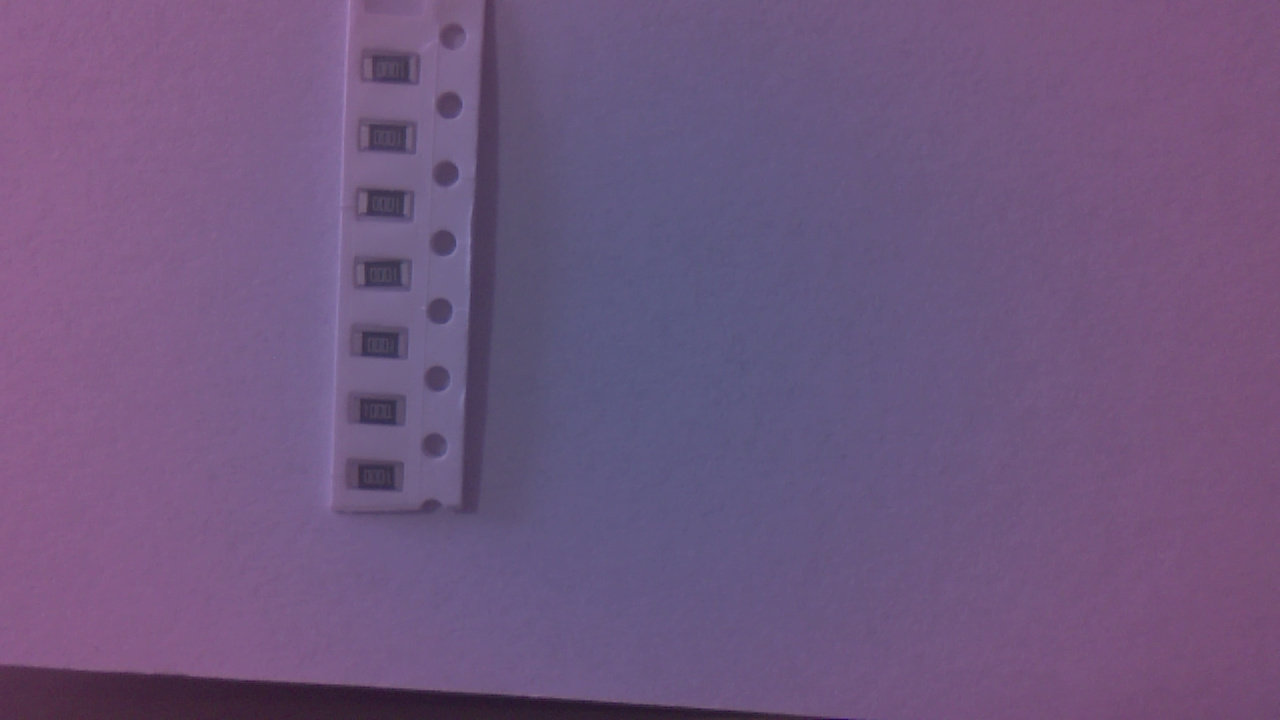Resistor: (351, 398, 415, 433), (362, 125, 423, 161), (354, 331, 414, 366), (357, 191, 420, 224), (365, 56, 427, 89), (360, 263, 418, 297), (352, 465, 413, 494)
